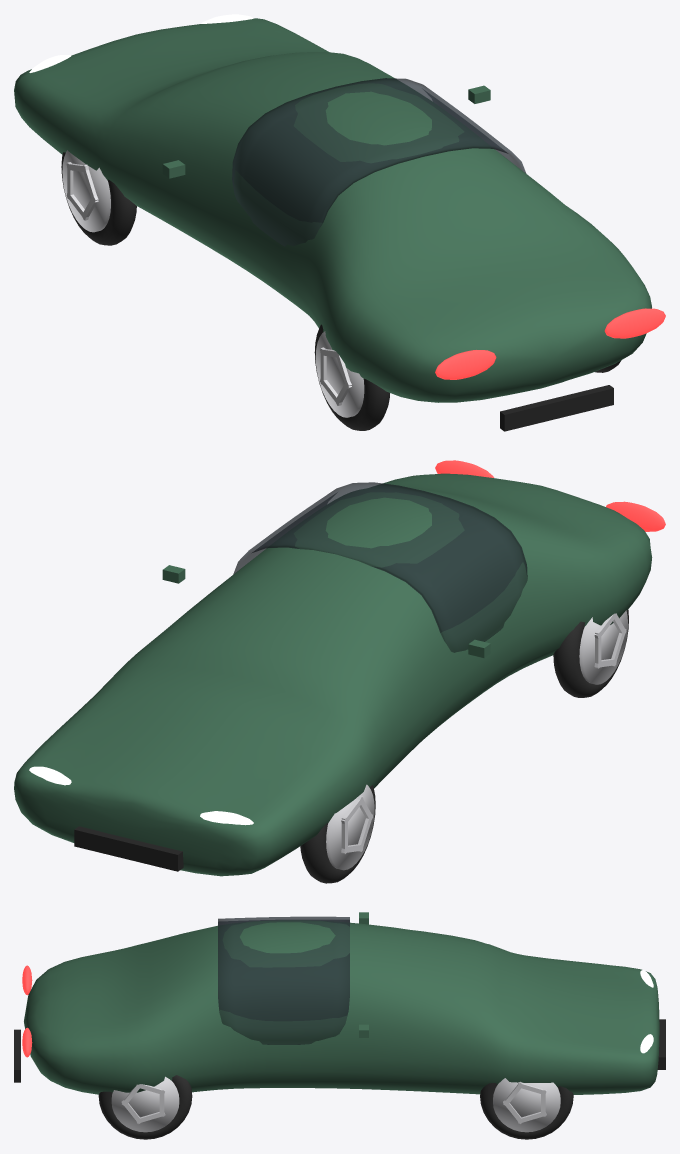
Rendered from ford_mustang_gt_2+2_fastback_1968.glb.
3 views of the same model, one above another, from view 1: azimuth 30°, elevation 25°; view 2: azimuth 150°, elevation 25°; view 3: azimuth 270°, elevation 25° (orthographic). The views are drawn at different scales.
Parts seen in each view (by area): view 1: Body, Glass, Diffuser, Rim_FR, Rim_RR, Tyre_FR, Tyre_RR, Taillight_L, Taillight_R; view 2: Body, Glass, FrontIntake, Rim_FR, Tyre_RR, Rim_RR, Tyre_FR, Taillight_R, Taillight_L; view 3: Body, Glass, Rim_FL, Rim_RL, Tyre_RL, Tyre_FL, Diffuser, FrontIntake.
Part boxes in pixels (bbox=[...]): Body: bbox=[14, 18, 651, 402]; Glass: bbox=[232, 78, 526, 246]; Diffuser: bbox=[500, 385, 613, 431]; Rim_FR: bbox=[62, 150, 110, 232]; Rim_RR: bbox=[315, 331, 364, 417]; Tyre_FR: bbox=[61, 152, 136, 245]; Tyre_RR: bbox=[314, 324, 389, 430]; Taillight_L: bbox=[604, 308, 665, 338]; Taillight_R: bbox=[435, 350, 496, 379]; Body: bbox=[14, 473, 652, 876]; Glass: bbox=[233, 482, 527, 652]; FrontIntake: bbox=[74, 826, 183, 871]; Rim_FR: bbox=[326, 784, 374, 870]; Tyre_RR: bbox=[553, 609, 628, 697]; Rim_RR: bbox=[579, 610, 627, 684]; Tyre_FR: bbox=[300, 785, 375, 883]; Taillight_R: bbox=[606, 501, 665, 531]; Taillight_L: bbox=[435, 460, 494, 477]; Body: bbox=[24, 920, 659, 1094]; Glass: bbox=[218, 916, 349, 1044]; Rim_FL: bbox=[493, 1078, 560, 1132]; Rim_RL: bbox=[111, 1076, 179, 1132]; Tyre_RL: bbox=[98, 1075, 192, 1139]; Tyre_FL: bbox=[480, 1083, 573, 1139]; Diffuser: bbox=[14, 1029, 20, 1082]; FrontIntake: bbox=[657, 1019, 665, 1069].
Size of the model in its own units: 2.01 by 1.28 by 4.68.
